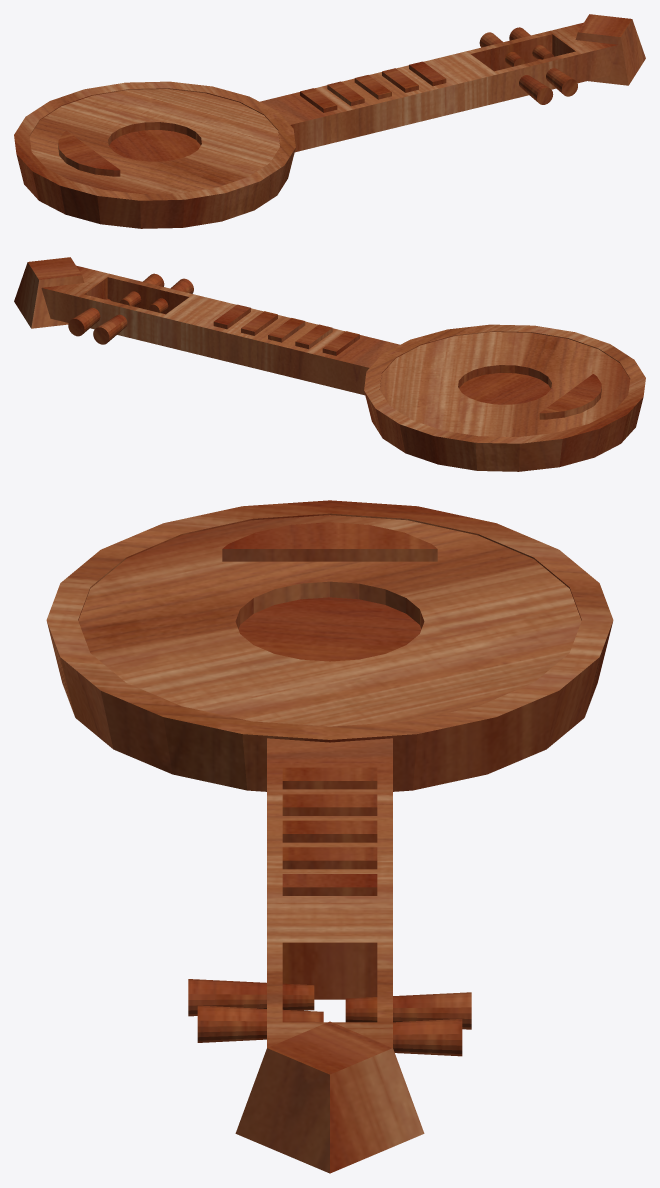
File: Yueqin.obj
3 views of the same model, one above another, from view 1: azimuth 30°, elevation 25°; view 2: azimuth 150°, elevation 25°; view 3: azimuth 270°, elevation 25° (orthographic). The views are drawn at different scales.
Parts seen in each view (by area): view 1: YueQin; view 2: YueQin; view 3: YueQin.
Boxes of the visible parts, <box> form: YueQin: <box>14,14,645,228</box>; YueQin: <box>14,257,645,471</box>; YueQin: <box>46,500,613,1173</box>.
Size of the model in its own units: 45 by 3 by 18.
